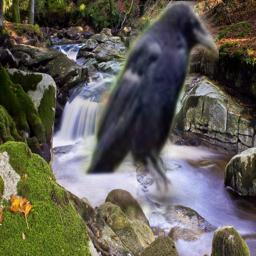Crow: (78, 1, 219, 239)
